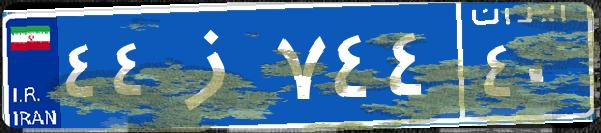0: (525, 38, 570, 115)
4: (385, 28, 445, 110), (330, 28, 385, 110), (57, 26, 110, 107), (475, 38, 525, 113), (110, 28, 158, 105)
7: (273, 28, 330, 110)
ز: (158, 15, 273, 115)
